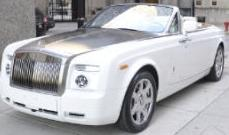front_view: (0, 47, 119, 132)
headlight: (68, 55, 110, 94)
